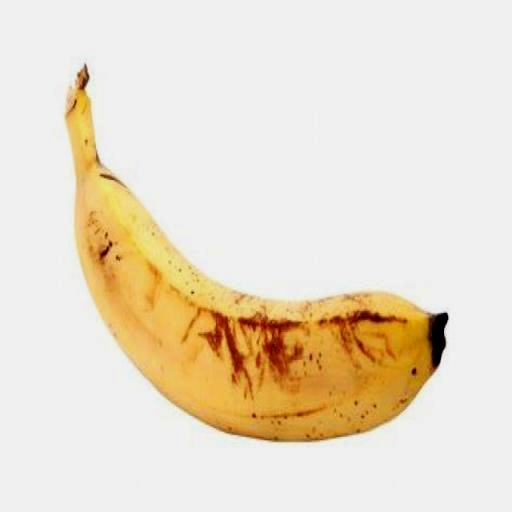fruit: (67, 68, 447, 439)
